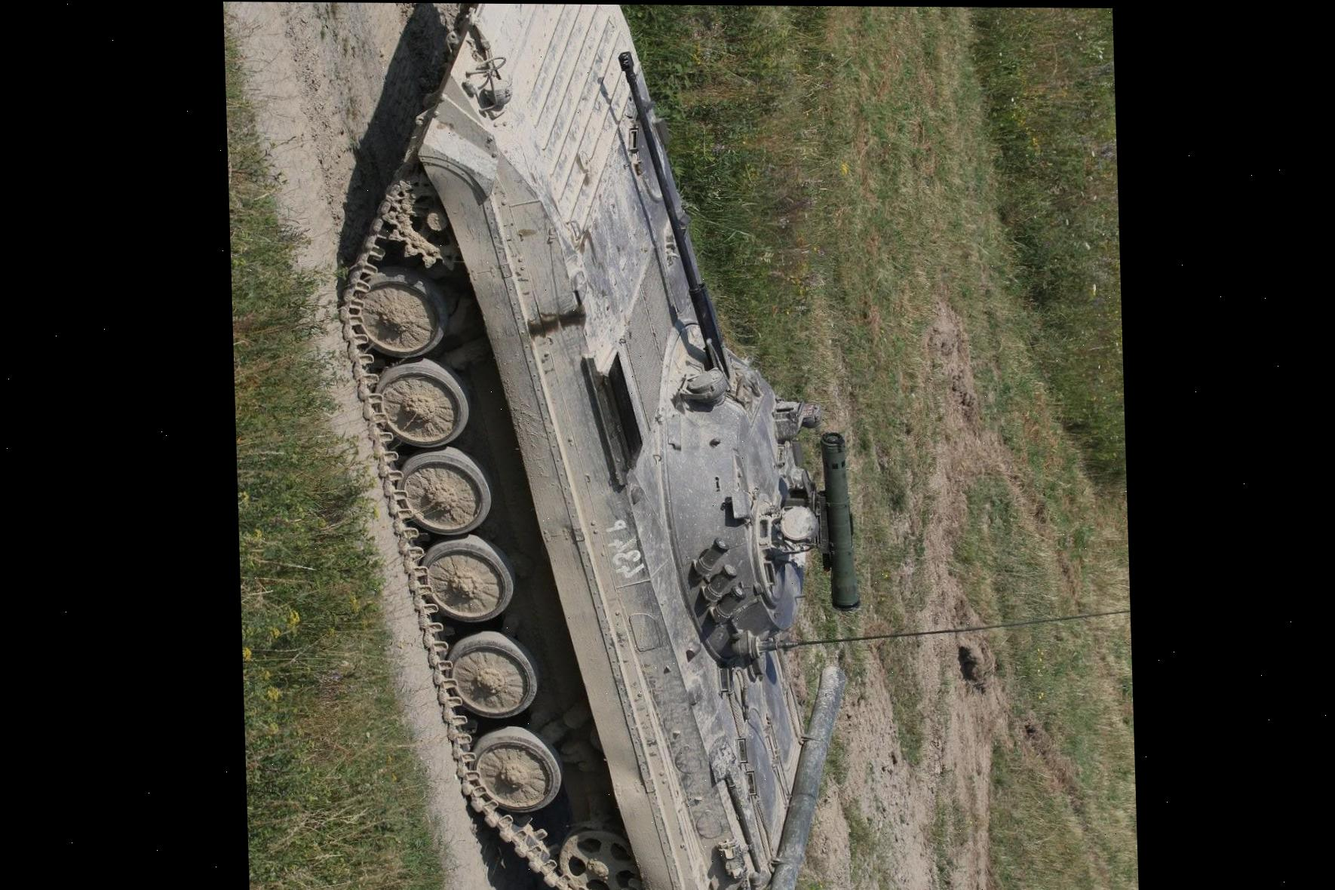tank: (327, 2, 870, 890)
